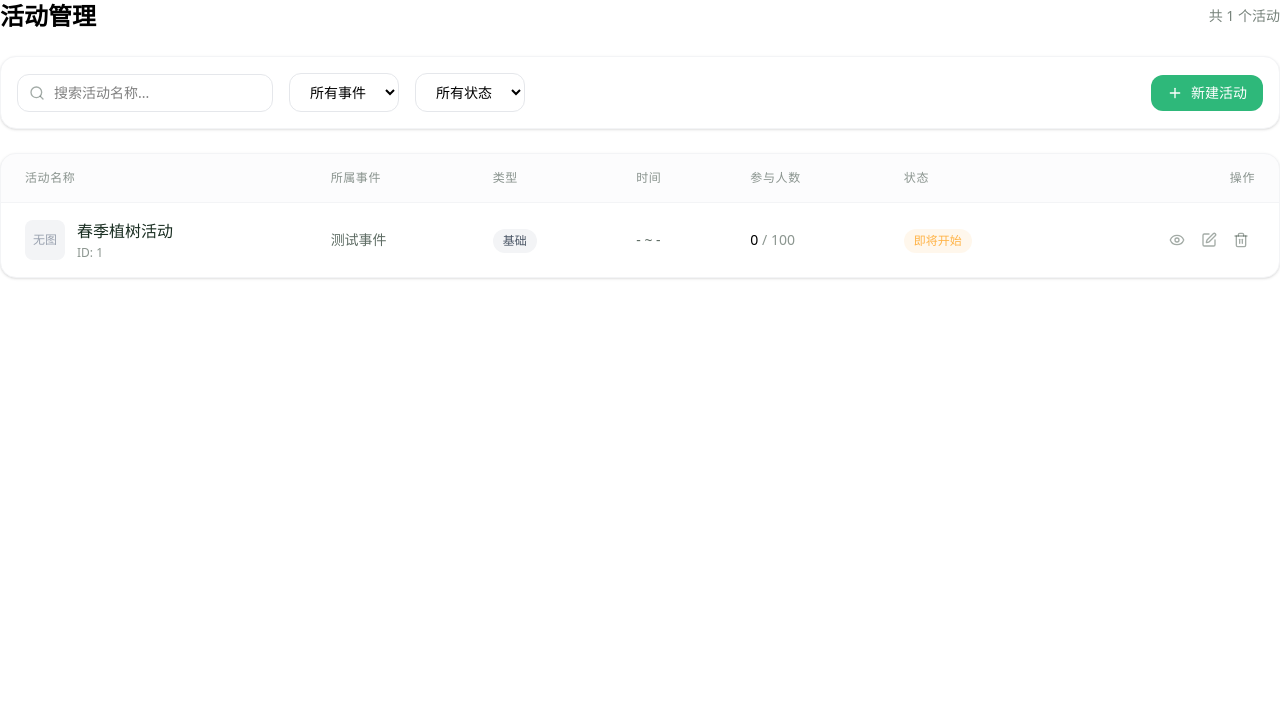
Test case: ActivityManagementPage 删除活动 › 删除无关联记录的活动成功并关闭模态（回归）
Expected: the text "春季植树活动" is shown, x1=77 y1=219 x2=173 y2=243
Click the button titled "删除": [1241, 240] box x1=1227 y1=226 x2=1255 y2=254
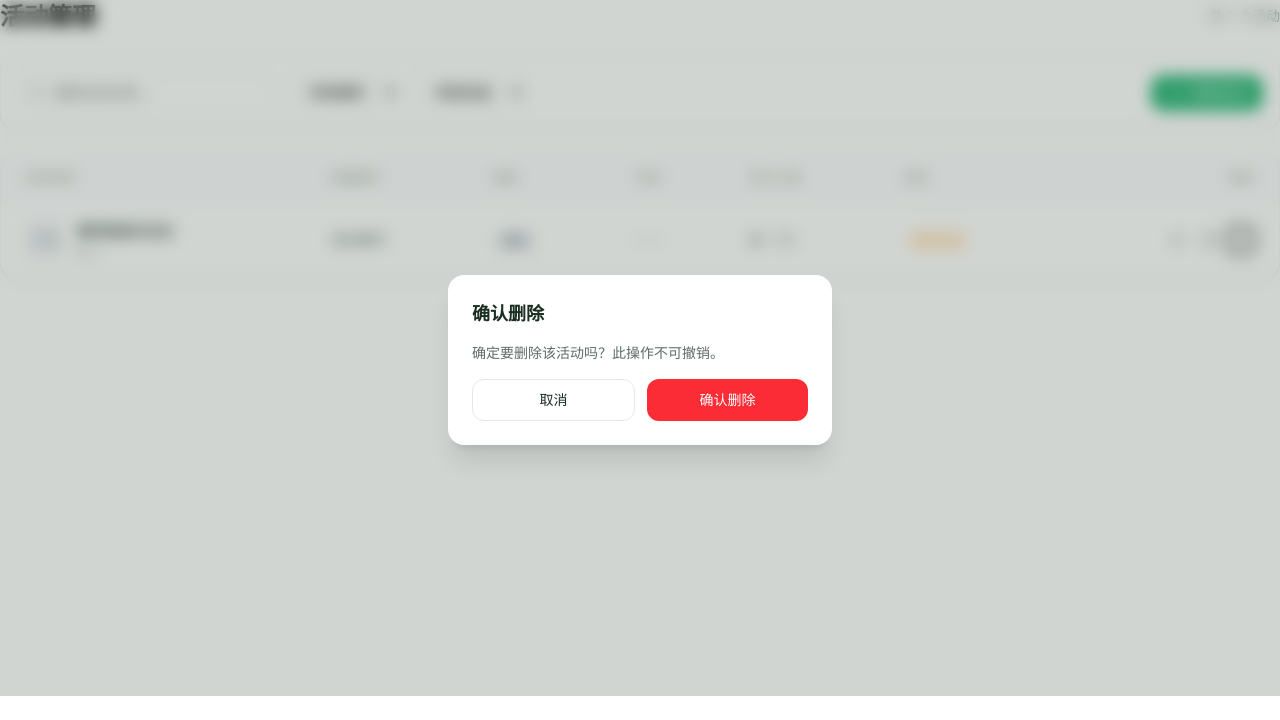
Click the button "确认删除": [728, 400] box x1=647 y1=379 x2=808 y2=421
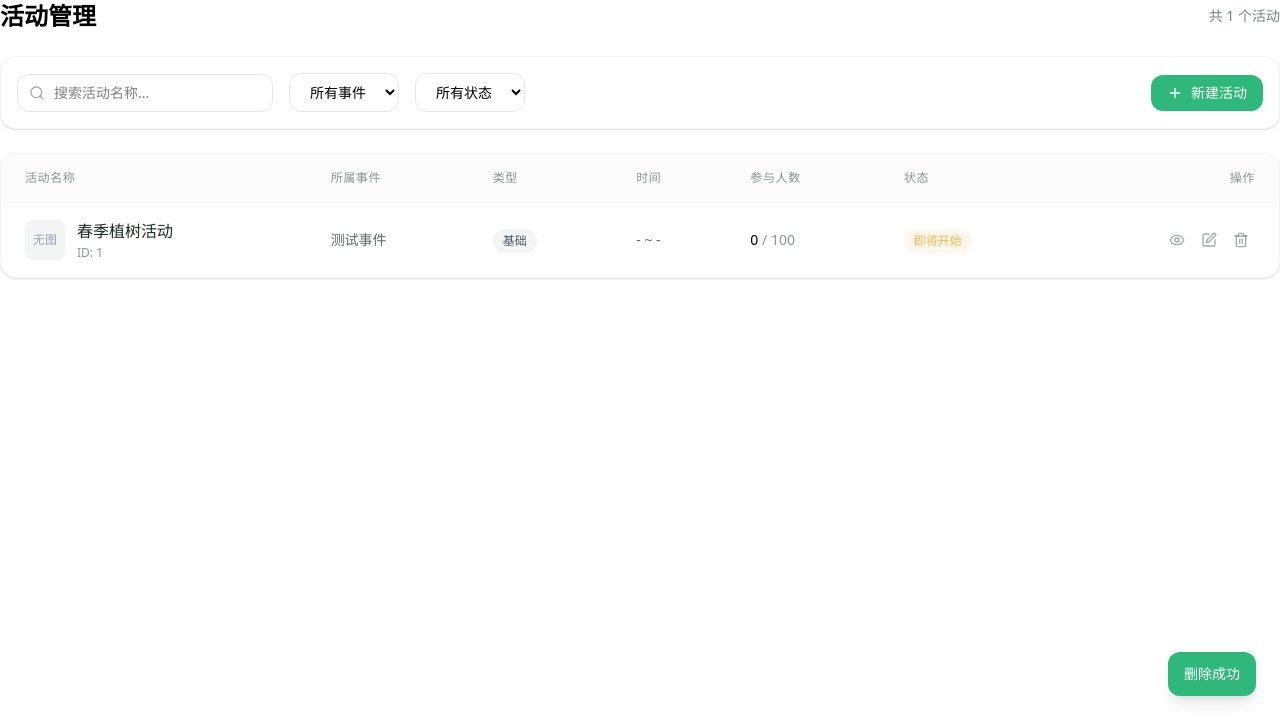
Now the heading "确认删除" is gone
Now the text "删除成功" is shown, box x1=1168 y1=652 x2=1256 y2=696
